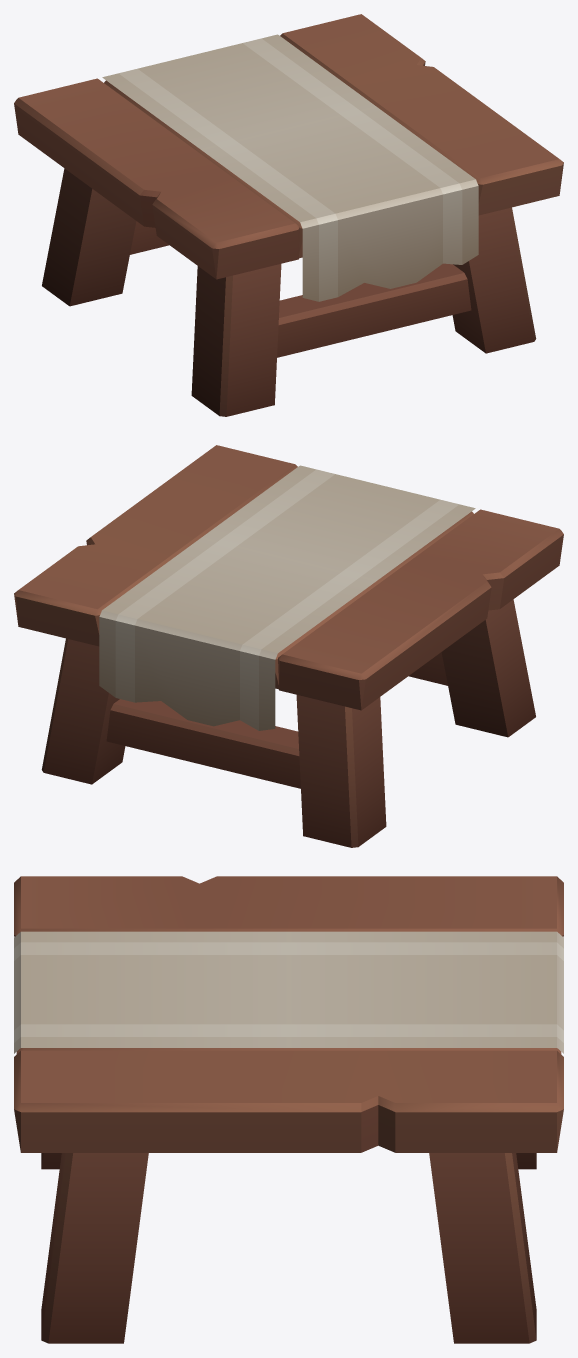
File: table-medium-tablecloth.glb
3 views of the same model, one above another, from view 1: azimuth 30°, elevation 25°; view 2: azimuth 150°, elevation 25°; view 3: azimuth 270°, elevation 25° (orthographic). The views are drawn at different scales.
Visible parts, largest first — view 1: table-medium-tablecloth; view 2: table-medium-tablecloth; view 3: table-medium-tablecloth.
Part boxes in pixels (x1=…): table-medium-tablecloth: x1=14, y1=14, x2=563, y2=416; table-medium-tablecloth: x1=14, y1=445, x2=563, y2=847; table-medium-tablecloth: x1=14, y1=876, x2=563, y2=1343.
Bounding box in the file's own units: 1.56 × 0.7799 × 1.56.
